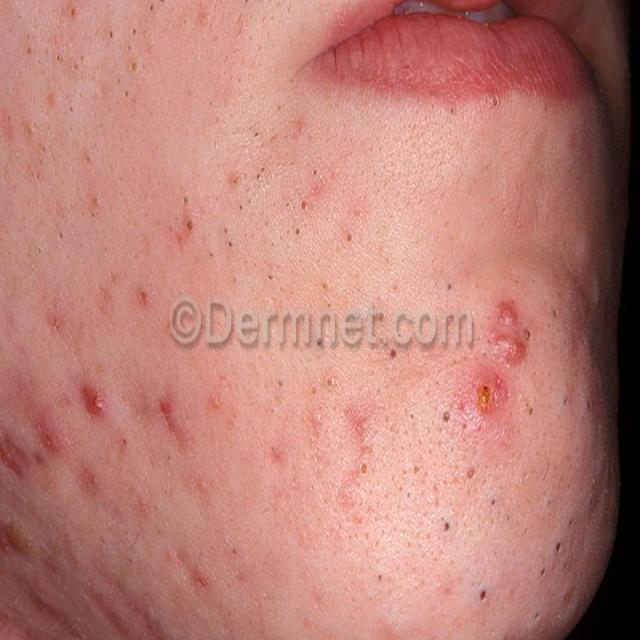Acne: (472, 362, 510, 422), (0, 419, 31, 484), (344, 391, 378, 441), (37, 406, 69, 458), (0, 518, 34, 564), (78, 374, 109, 424), (494, 334, 528, 372), (158, 390, 184, 439), (77, 456, 105, 500), (190, 559, 212, 603), (494, 295, 518, 331), (308, 402, 330, 437), (132, 276, 152, 312)
